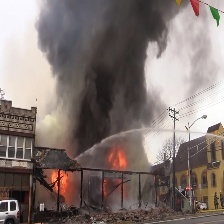fire: (101, 148, 129, 200), (50, 169, 68, 193)
